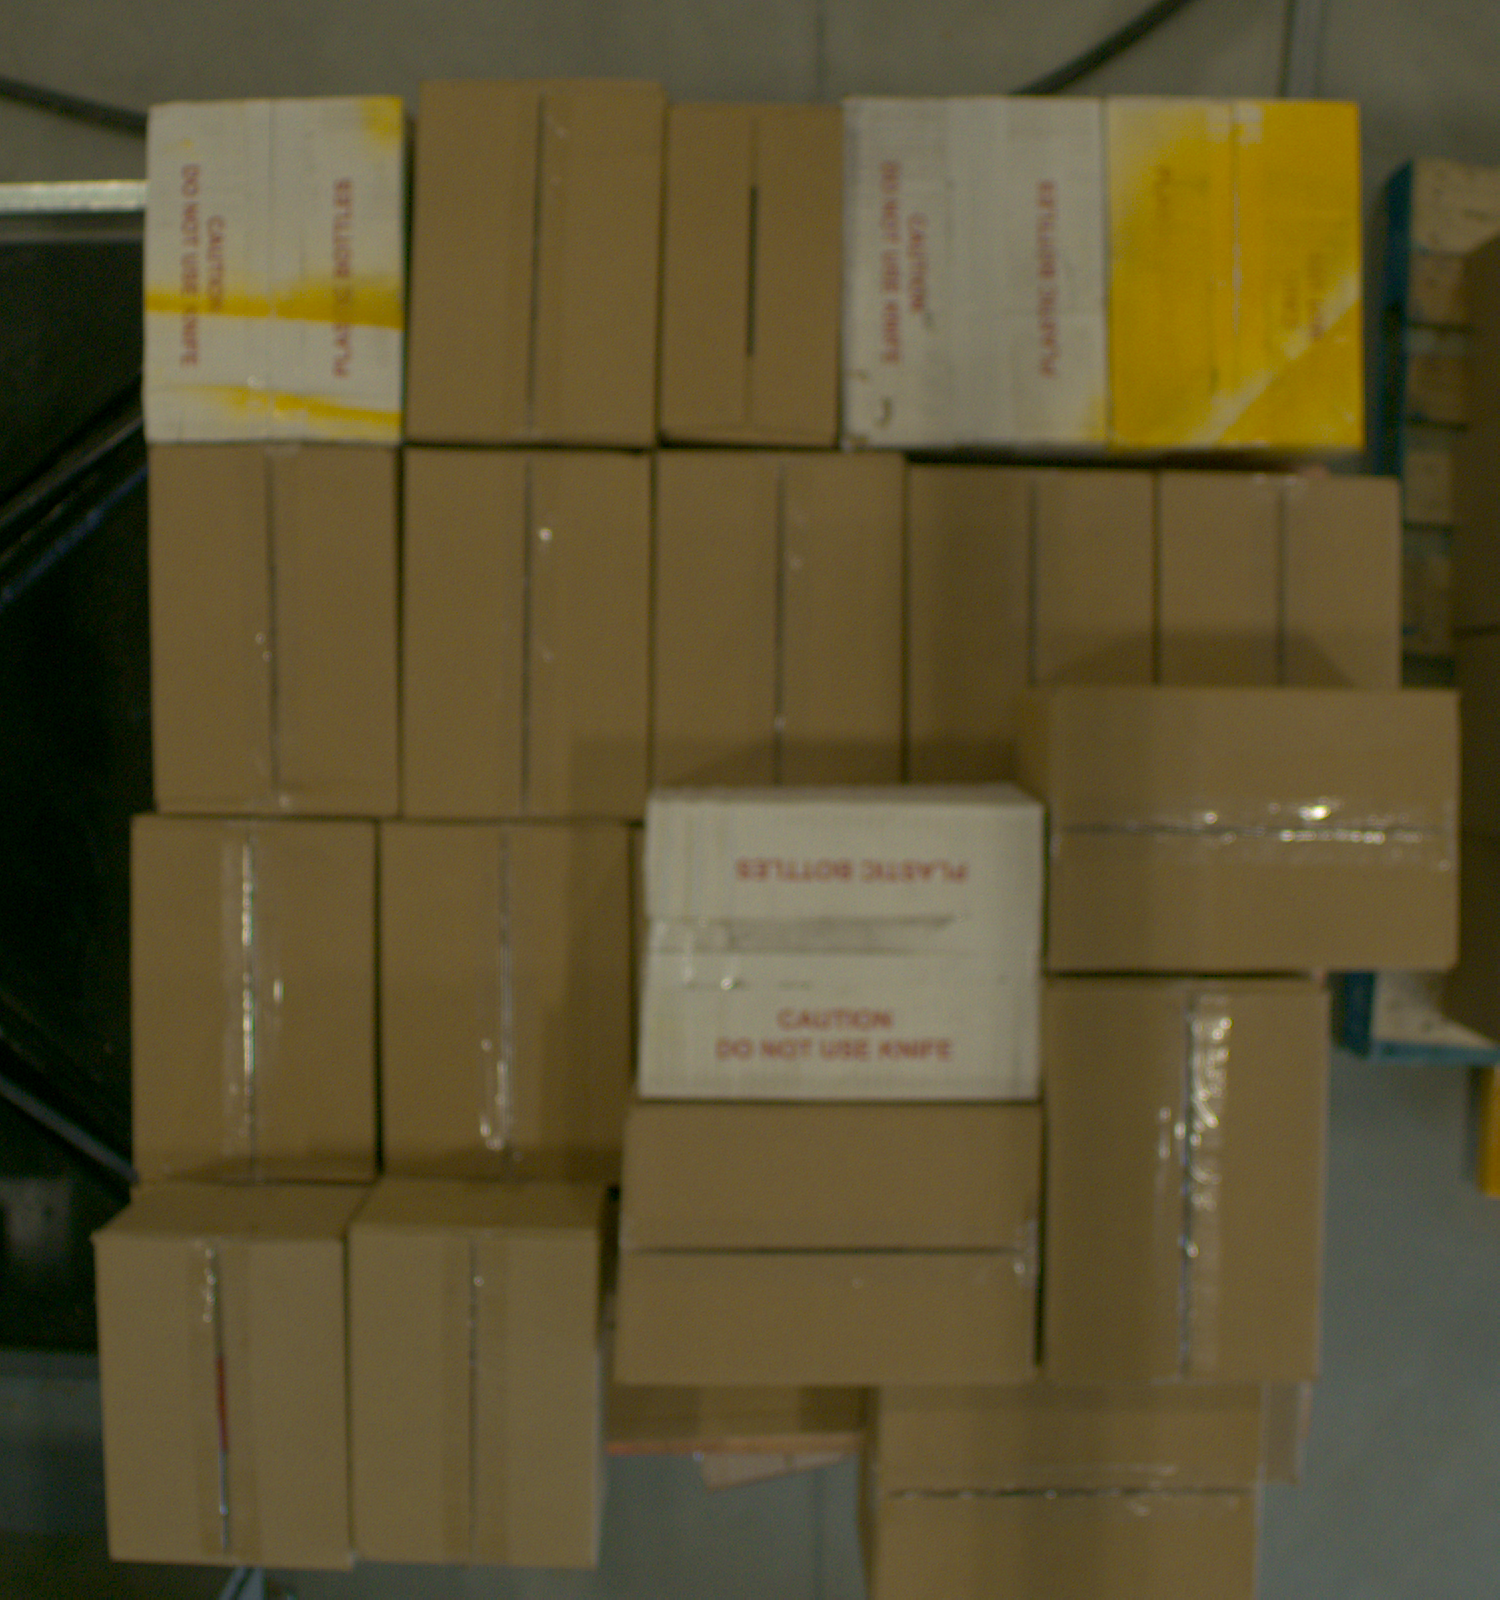box top: (640, 802, 1042, 1098), (1052, 687, 1461, 976), (620, 1109, 1040, 1384), (1050, 980, 1327, 1384), (840, 97, 1108, 450), (402, 451, 654, 823), (148, 451, 402, 815), (412, 80, 665, 443), (144, 96, 405, 445), (1109, 97, 1363, 451), (133, 818, 375, 1177), (383, 827, 632, 1179), (96, 1238, 352, 1569), (874, 1384, 1266, 1599), (350, 1231, 601, 1565), (656, 455, 904, 787), (909, 469, 1152, 781), (661, 104, 844, 444), (1159, 476, 1406, 689)
